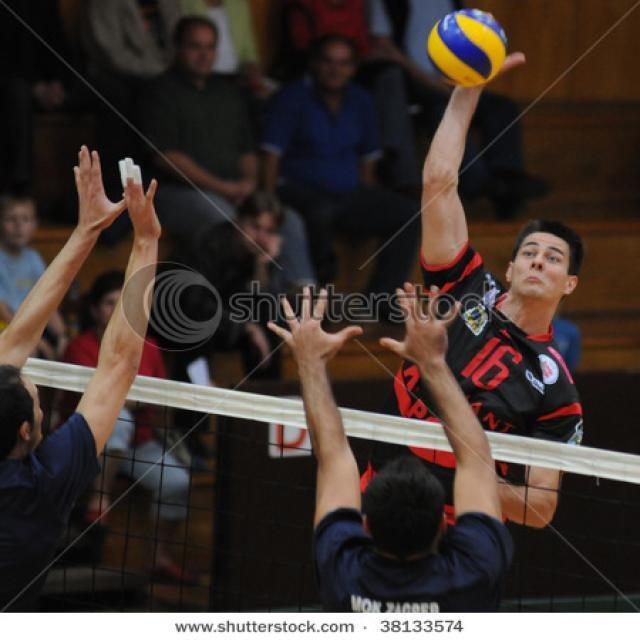volleyball: (425, 9, 508, 88)
